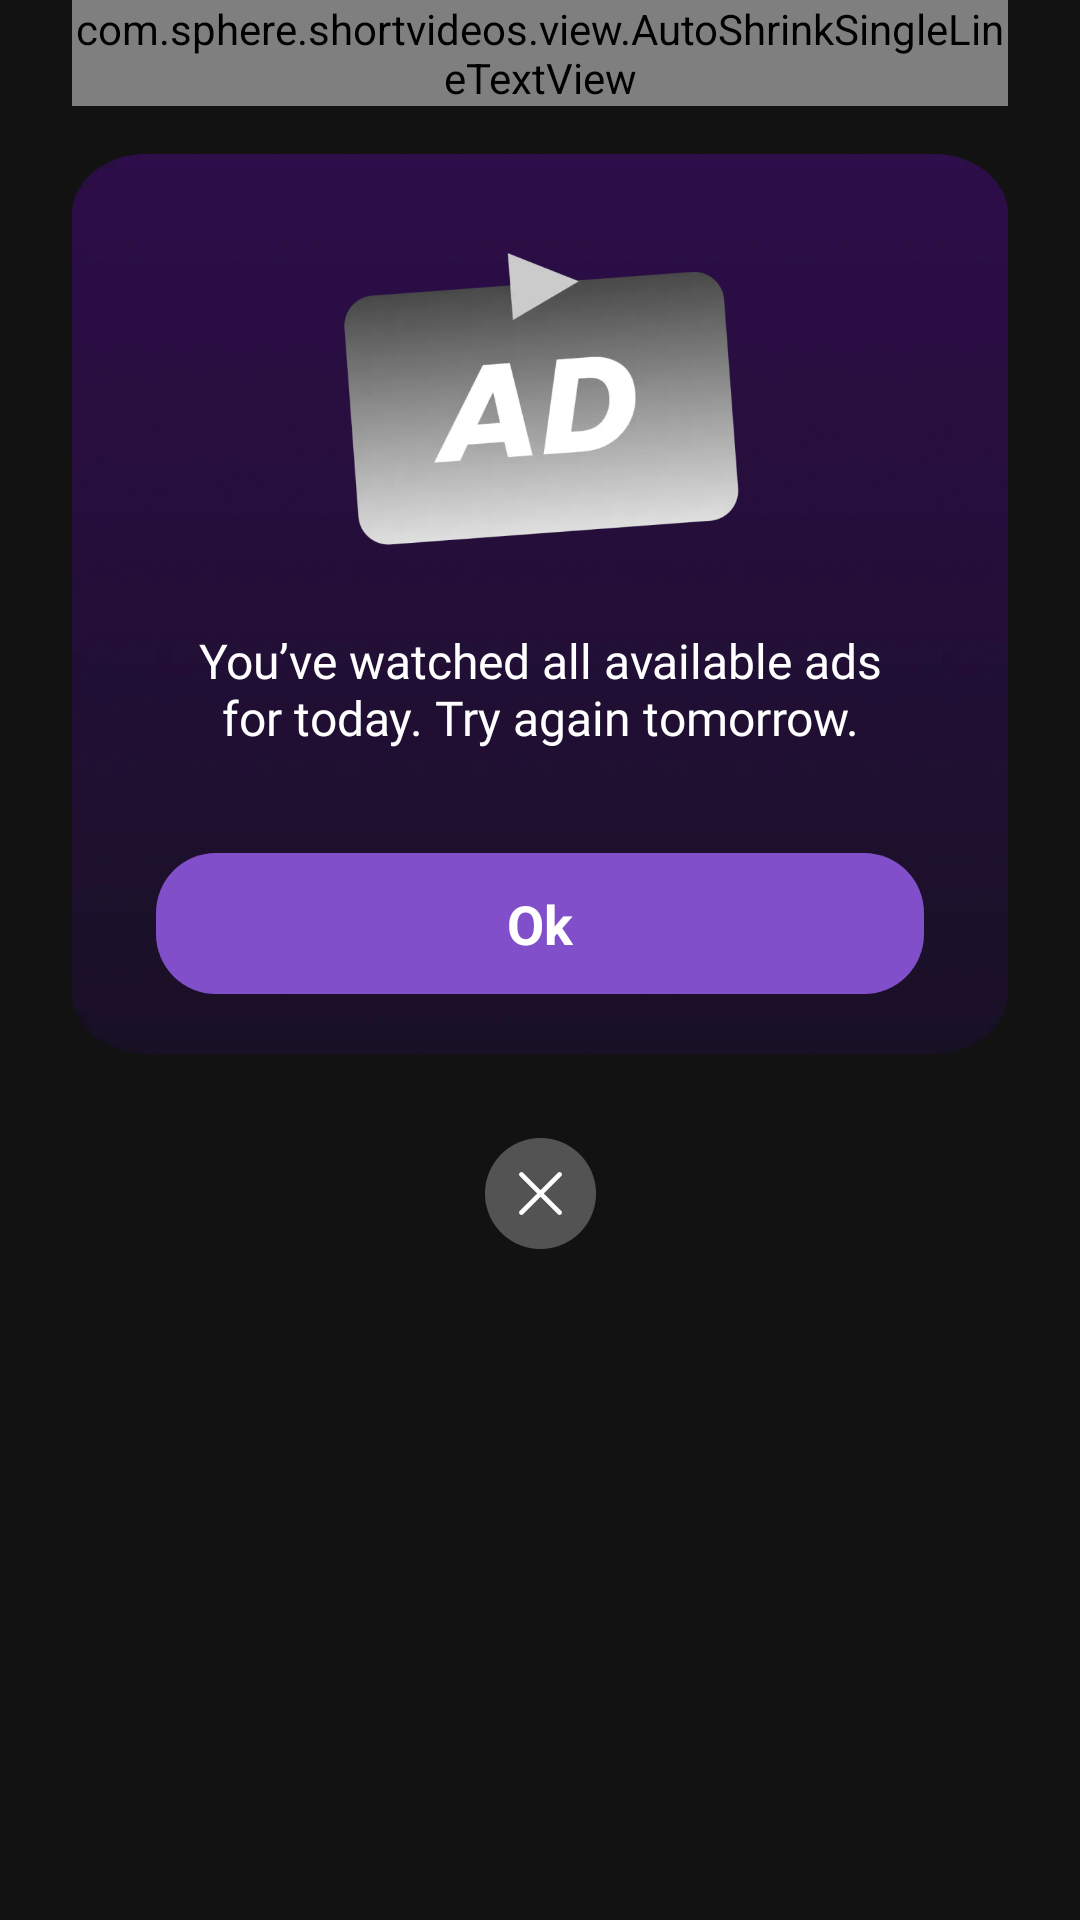

Screen size 1080×1920. Icon name, then its center in pixels as (x=x, y=y):
close: (x=540, y=1193)
